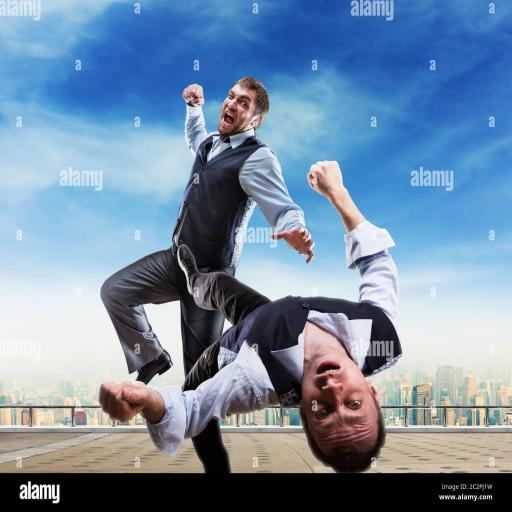fight: (102, 45, 428, 476)
